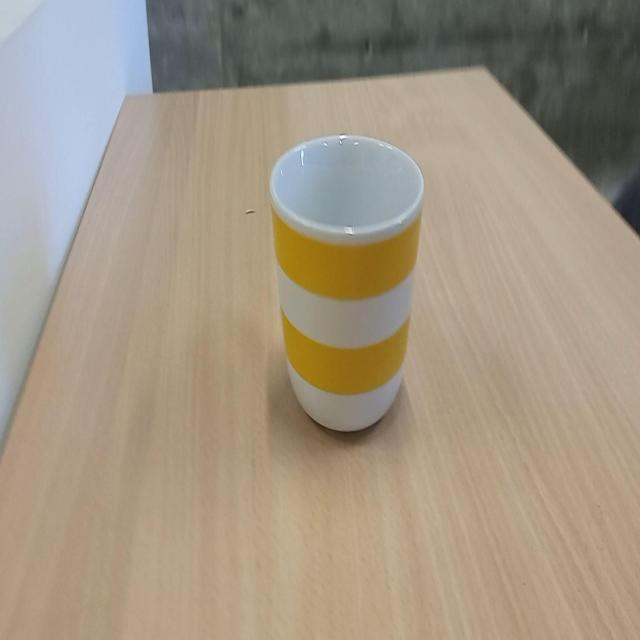cup: (268, 132, 428, 442)
